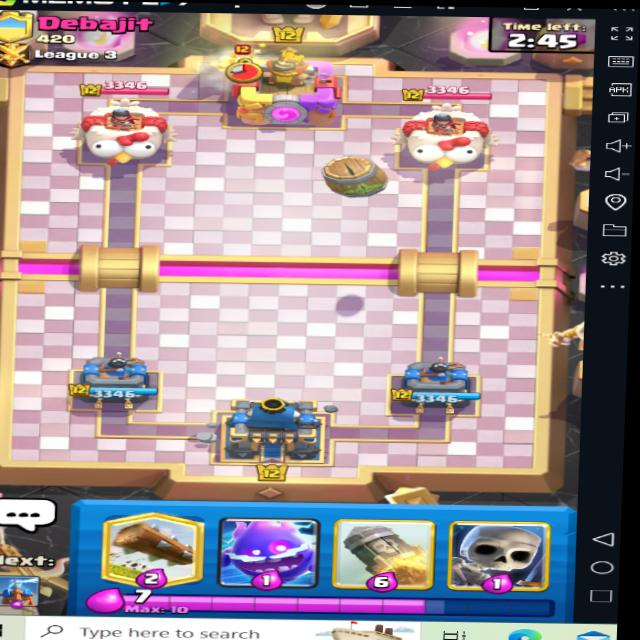electro-wizard: (193, 36, 269, 83)
